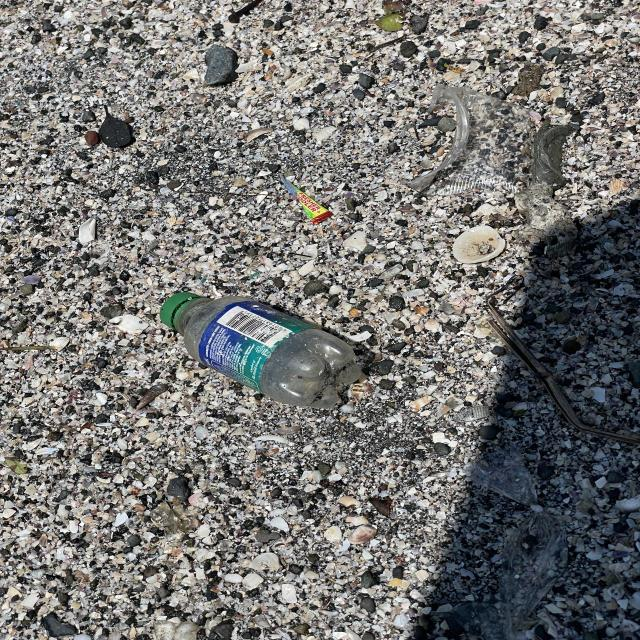plastic_waste: (156, 290, 368, 412), (282, 178, 333, 226)
